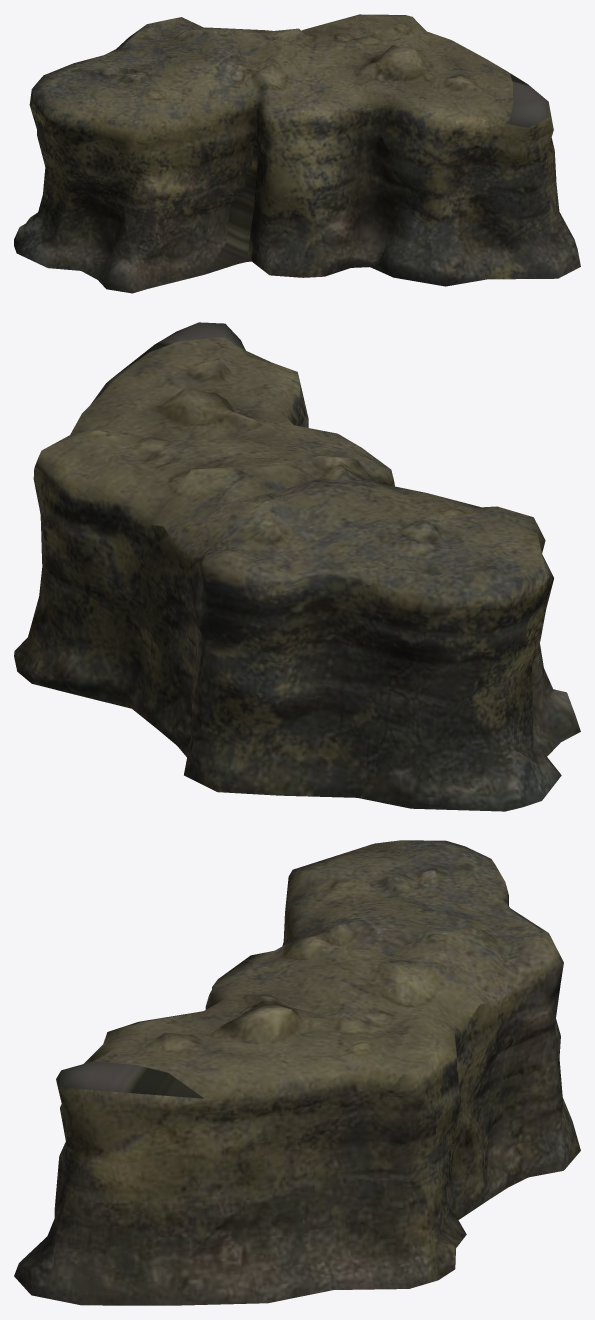
The picture shows the model from 3 angles, top to bottom: view 1: azimuth 30°, elevation 25°; view 2: azimuth 150°, elevation 25°; view 3: azimuth 270°, elevation 25°; orthographic projection. The views are drawn at different scales.
Parts seen in each view (by area): view 1: cliff2; view 2: cliff2; view 3: cliff2.
Part boxes in pixels (x1=…): cliff2: x1=14, y1=14, x2=580, y2=293; cliff2: x1=14, y1=322, x2=580, y2=811; cliff2: x1=14, y1=840, x2=580, y2=1305.
Bounding box in the file's own units: 19.9 × 7.75 × 17.36.
1 material, 1 textured.
